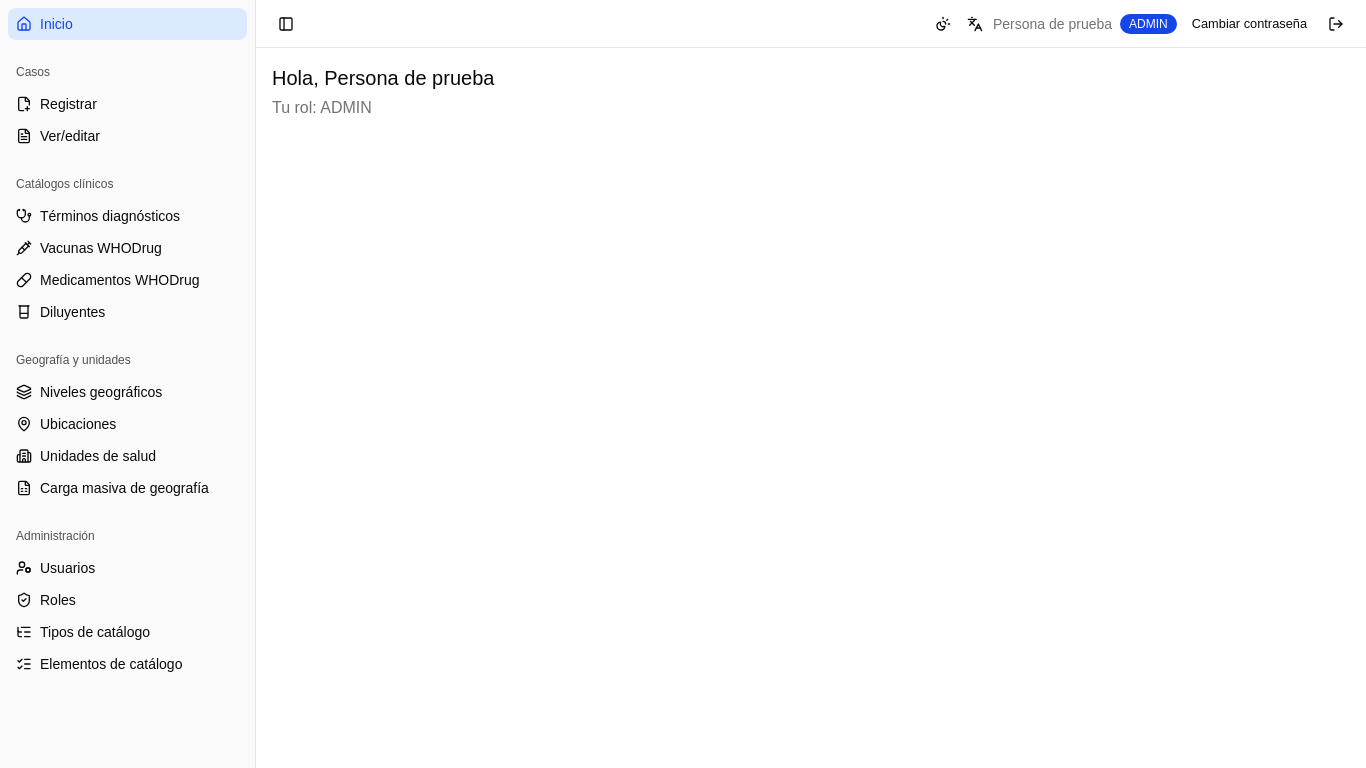
Scenario: Ruta /roles — navegación desde el sidebar › el enlace del sidebar navega a la pantalla de roles
Click the link "Roles": (46, 600) [16, 592, 76, 608]
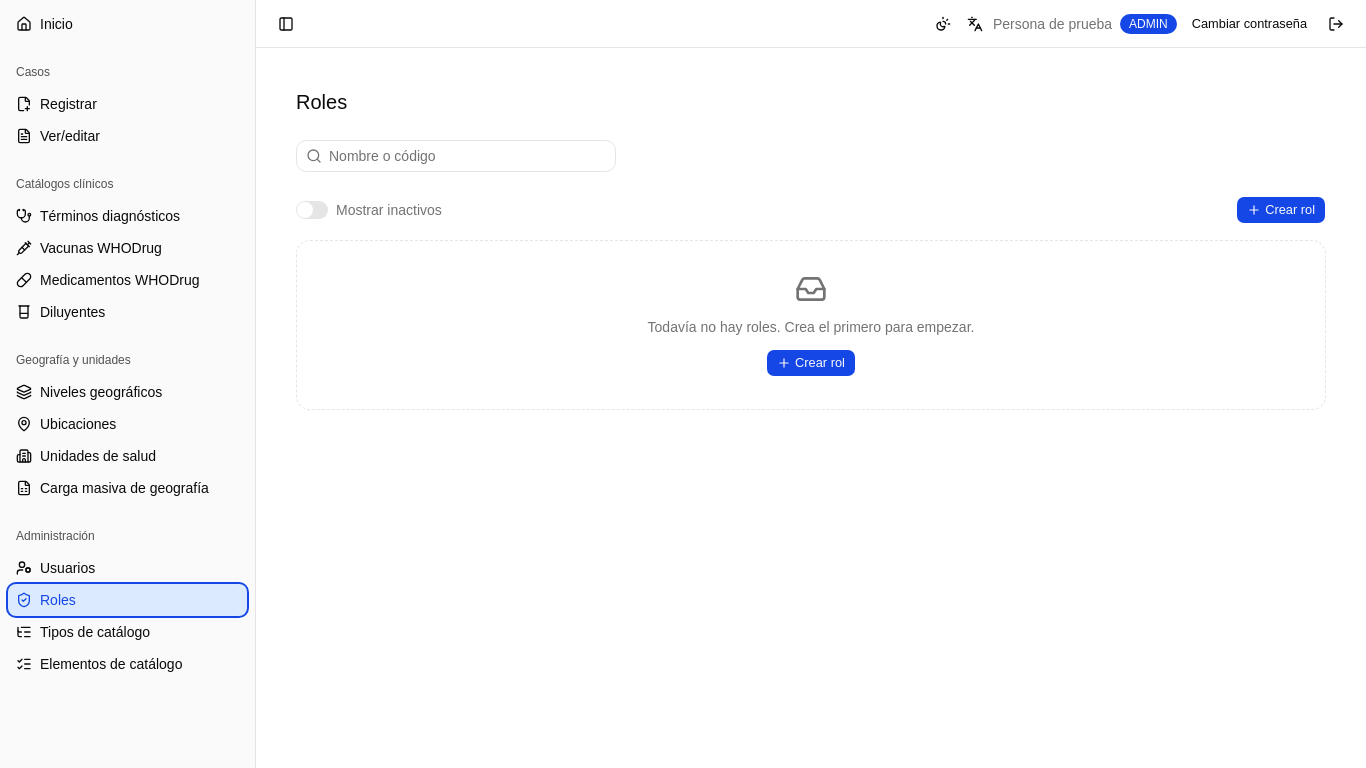
Expected: the heading "Roles" is shown, [296, 91, 347, 113]
